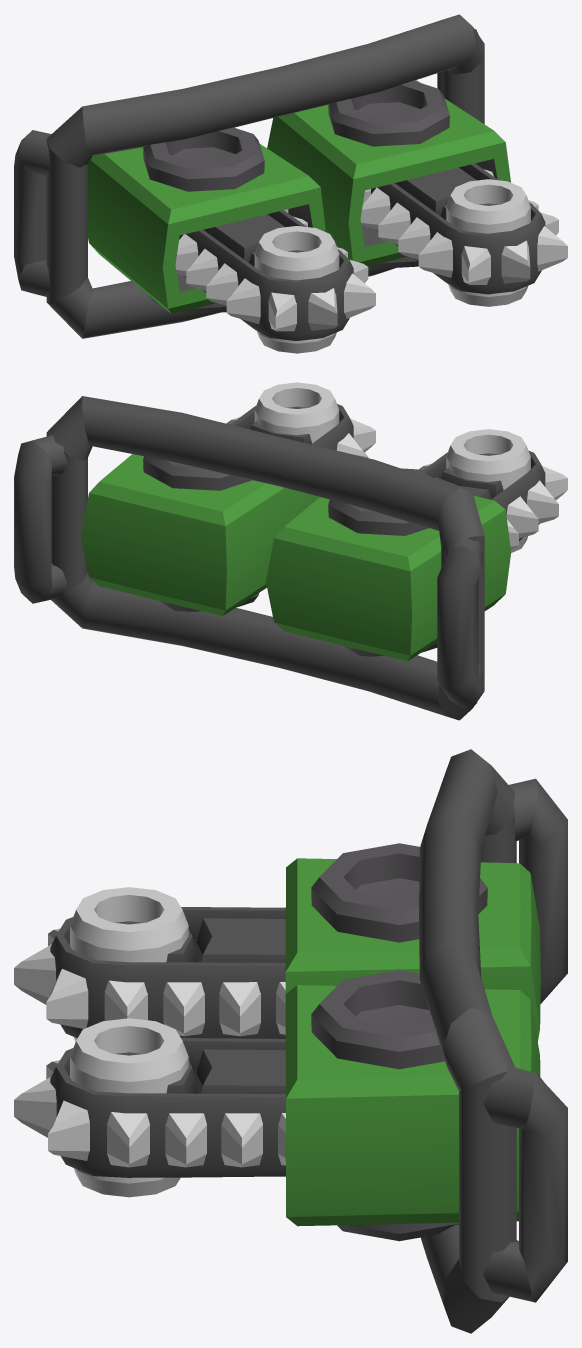
Rendered from Awl_1_LP.fbx.
3 views of the same model, one above another, from view 1: azimuth 30°, elevation 25°; view 2: azimuth 150°, elevation 25°; view 3: azimuth 270°, elevation 25° (orthographic). The views are drawn at different scales.
Visible parts, largest first — view 1: Awl_1_Base, Awl_1_L, Awl_1_R; view 2: Awl_1_Base, Awl_1_R, Awl_1_L; view 3: Awl_1_Base, Awl_1_L, Awl_1_R.
Part boxes in pixels (<box>): Awl_1_Base: <box>14,14,545,340</box>; Awl_1_L: <box>360,169,567,306</box>; Awl_1_R: <box>175,209,375,353</box>; Awl_1_Base: <box>14,396,545,720</box>; Awl_1_R: <box>418,429,567,552</box>; Awl_1_L: <box>226,382,375,457</box>; Awl_1_Base: <box>50,749,567,1333</box>; Awl_1_L: <box>14,1018,285,1197</box>; Awl_1_R: <box>14,887,285,1041</box>.
Size of the model in its own units: 183 by 87.94 by 135.
